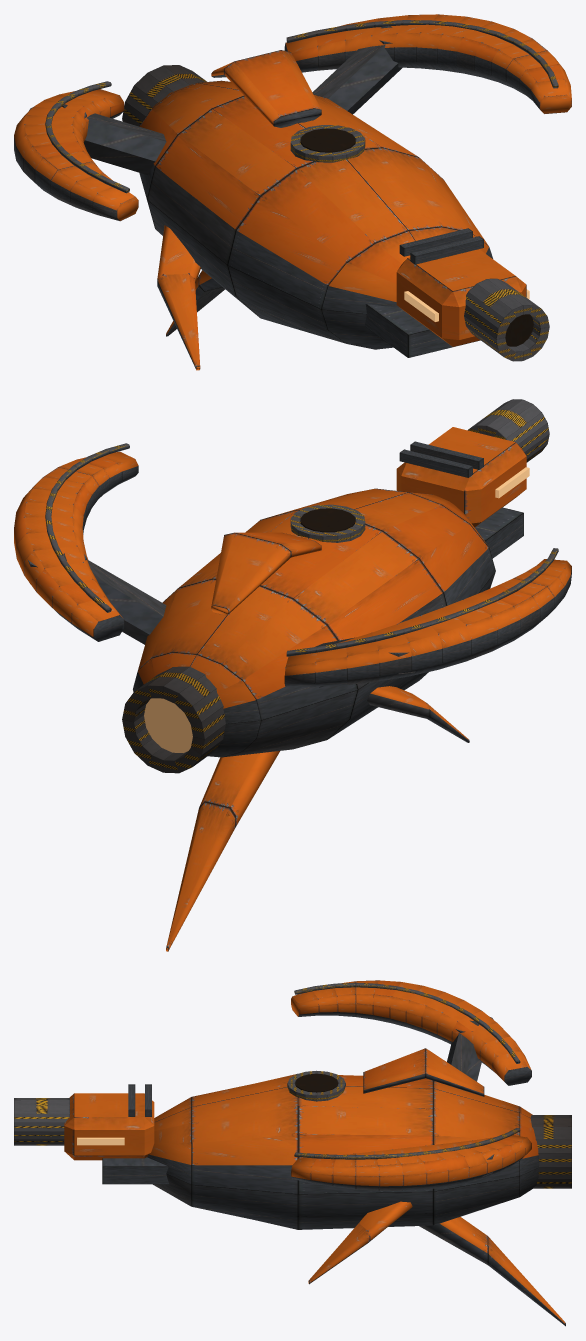
The model's file is pioneer-saturn-l04-laser.glb.
3 views of the same model, one above another, from view 1: azimuth 30°, elevation 25°; view 2: azimuth 150°, elevation 25°; view 3: azimuth 270°, elevation 25° (orthographic). The views are drawn at different scales.
Visible parts, largest first — view 1: Drone; view 2: Drone; view 3: Drone.
Boxes of the visible parts, x1=… form: Drone: x1=14, y1=14, x2=571, y2=370; Drone: x1=14, y1=399, x2=571, y2=951; Drone: x1=14, y1=980, x2=571, y2=1326.
Bounding box in the file's own units: 1.16 × 0.762 × 1.43.
Materials: 3 (3 with a texture image).
